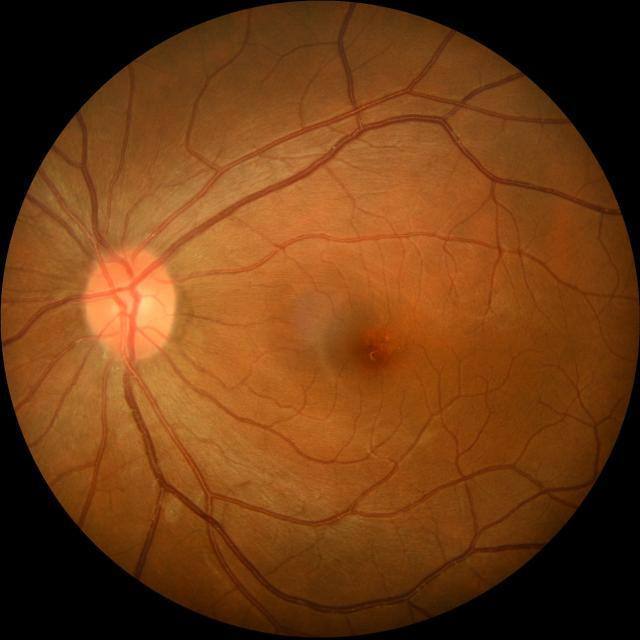OC: (110, 284, 149, 324)
OD: (84, 247, 174, 361)
